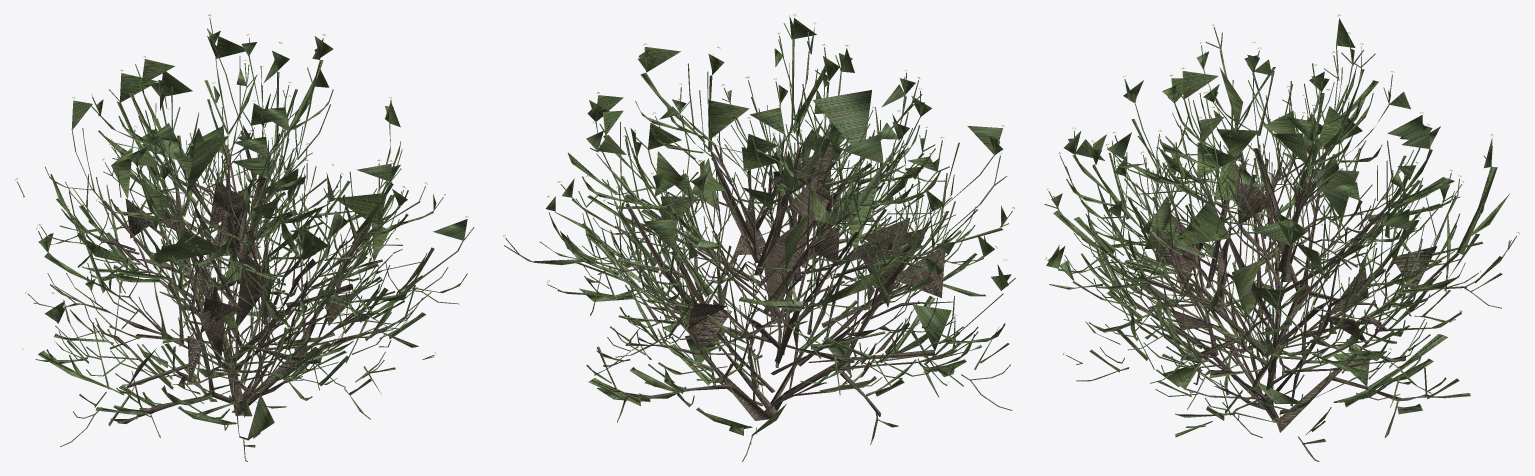
Rendered from MT_PM_V60_Cistus_albidus_01_01_collision.dae.
The picture shows the model from 3 angles, left to right: view 1: azimuth 30°, elevation 25°; view 2: azimuth 150°, elevation 25°; view 3: azimuth 270°, elevation 25°; orthographic projection. The views are drawn at different scales.
Parts seen in each view (by area): view 1: MT_PM_V60_Cistus_albidus_01_01; view 2: MT_PM_V60_Cistus_albidus_01_01; view 3: MT_PM_V60_Cistus_albidus_01_01.
Boxes of the visible parts, x1,y1,x2,y2 form: MT_PM_V60_Cistus_albidus_01_01: (15, 14, 474, 461); MT_PM_V60_Cistus_albidus_01_01: (503, 14, 1015, 461); MT_PM_V60_Cistus_albidus_01_01: (1044, 14, 1519, 461).
Bounding box in the file's own units: 2.61 × 2.5 × 2.2.
